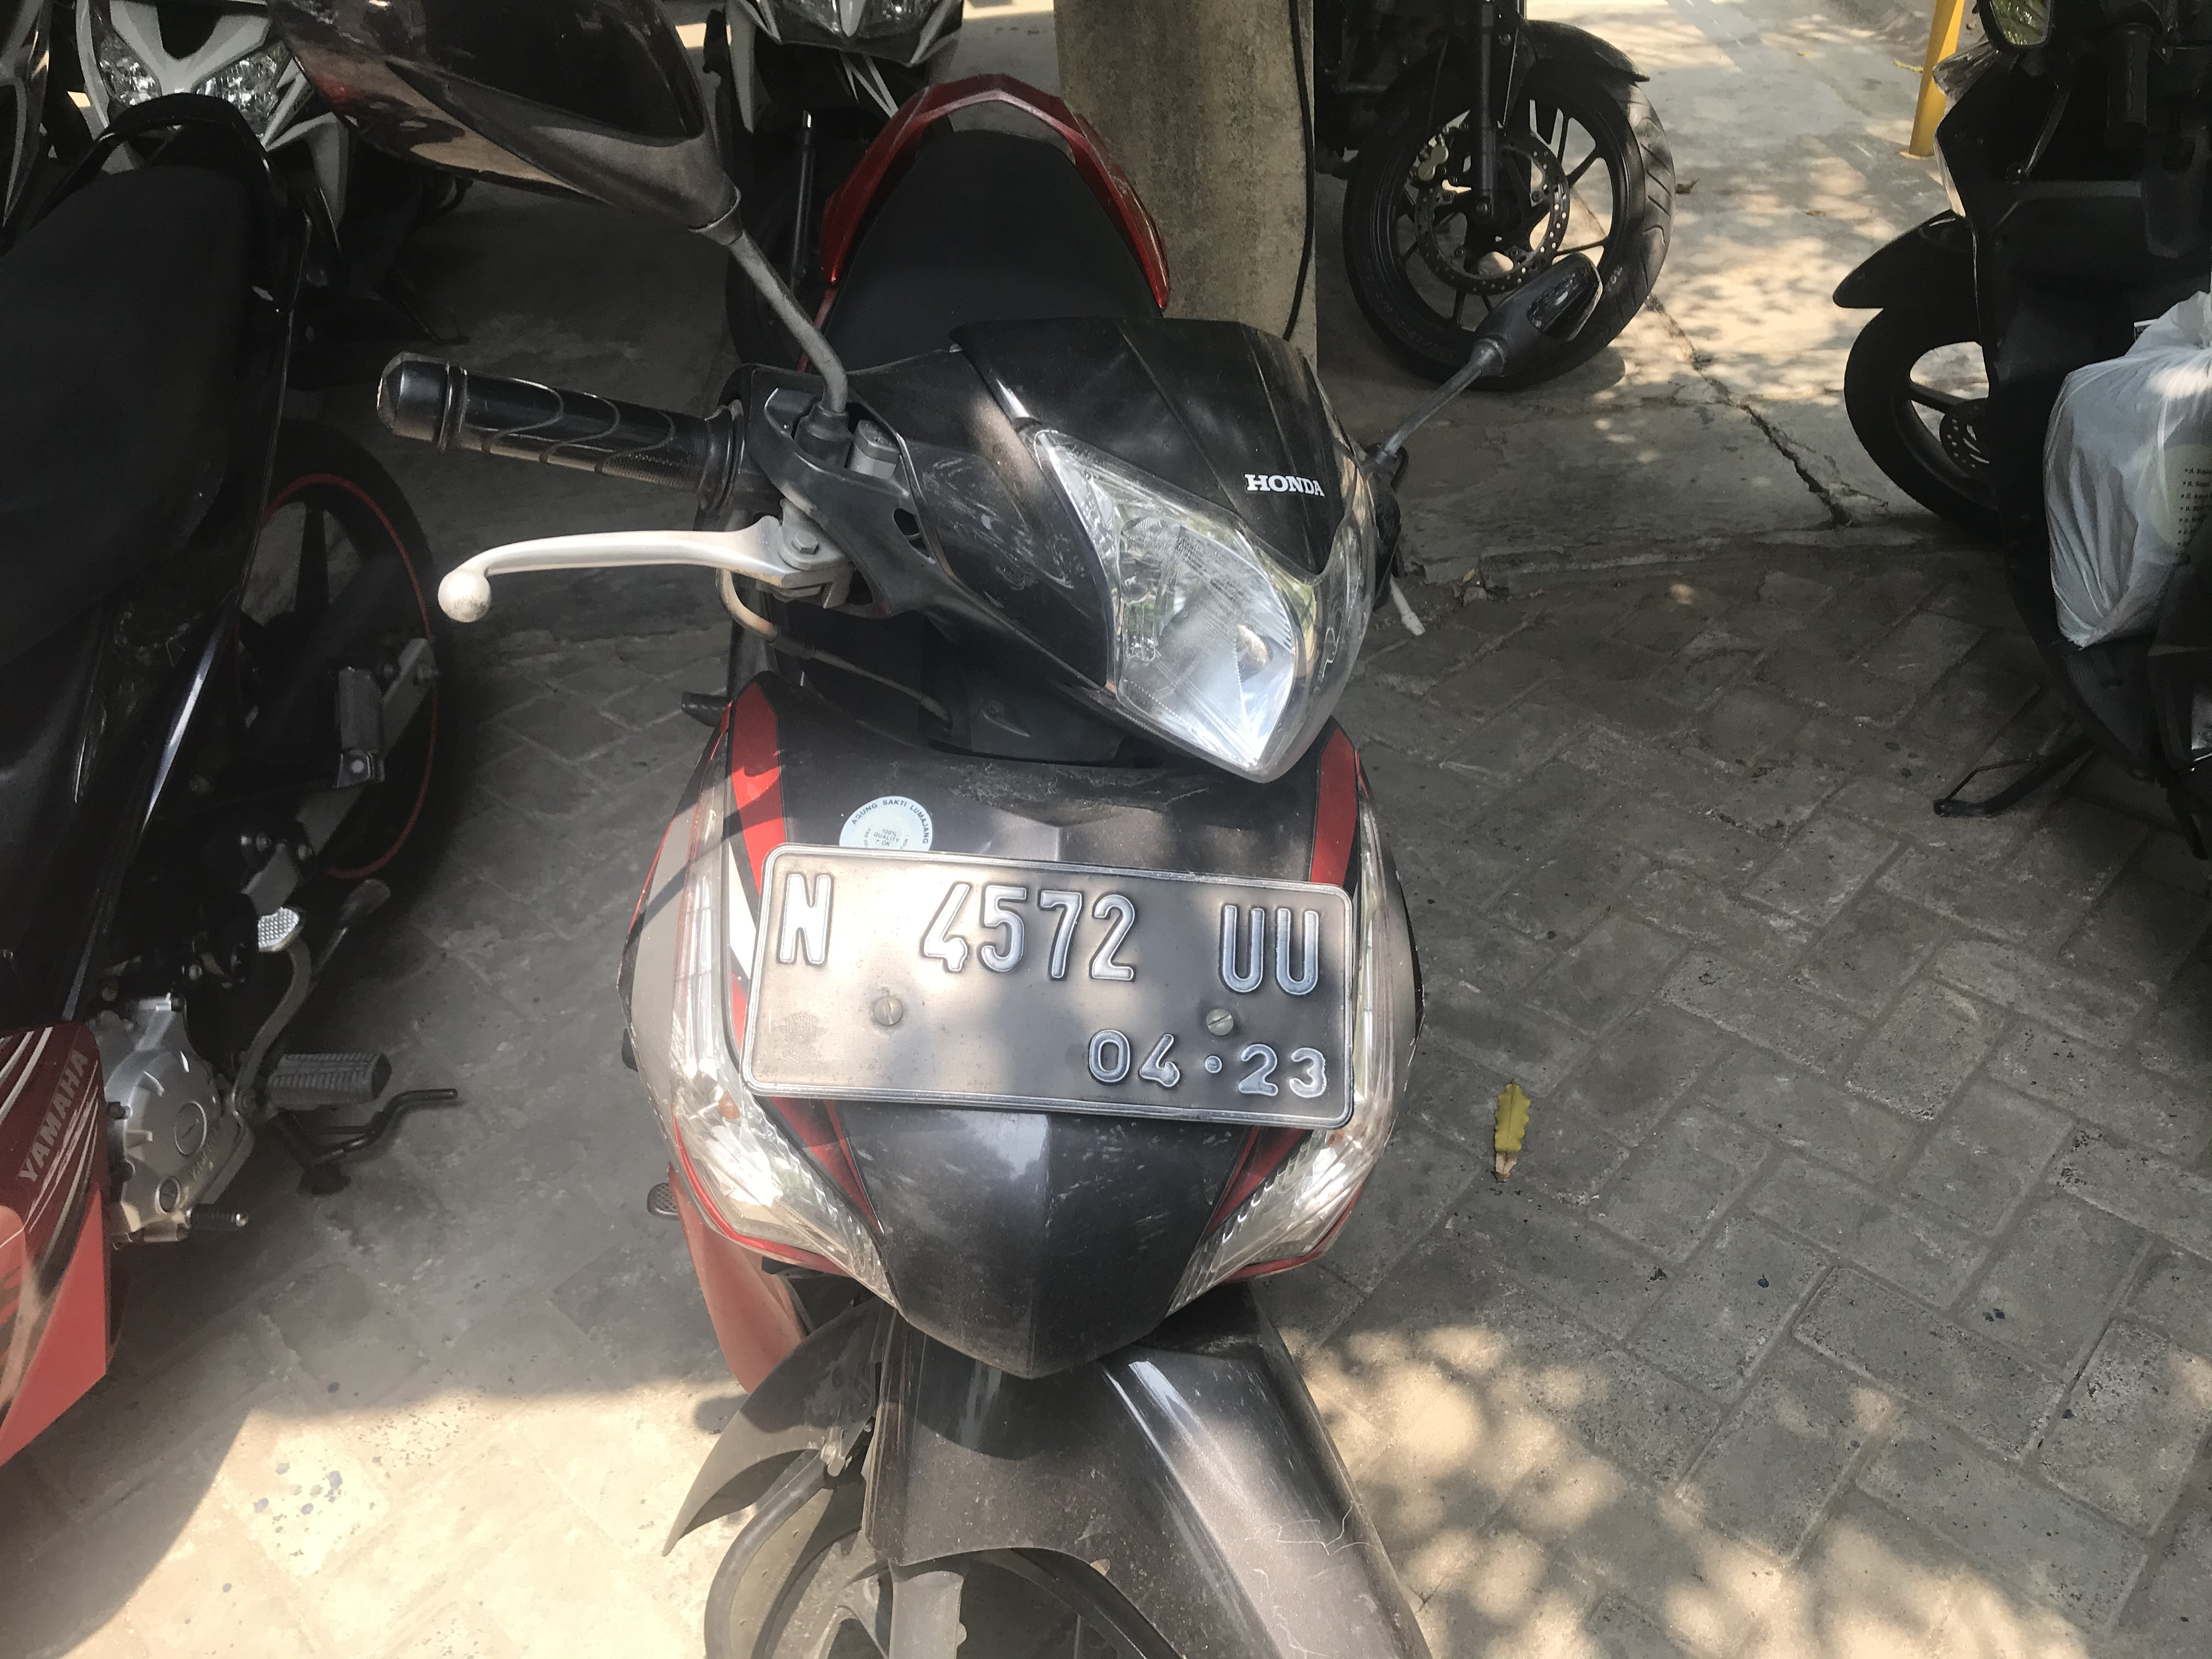plate: (771, 847, 1351, 1118)
